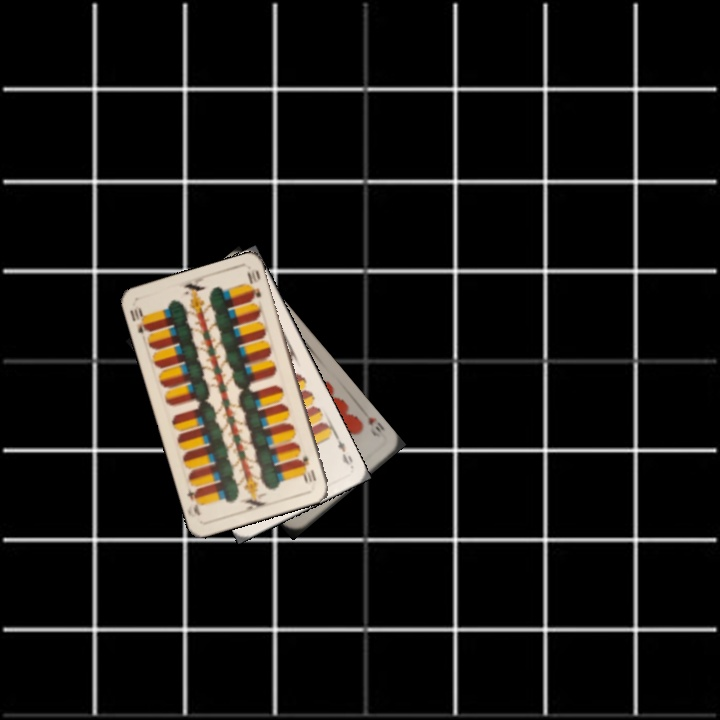E10: (126, 303, 153, 337), (297, 451, 319, 485)
E9: (331, 431, 355, 470)
H10: (359, 406, 386, 440)
